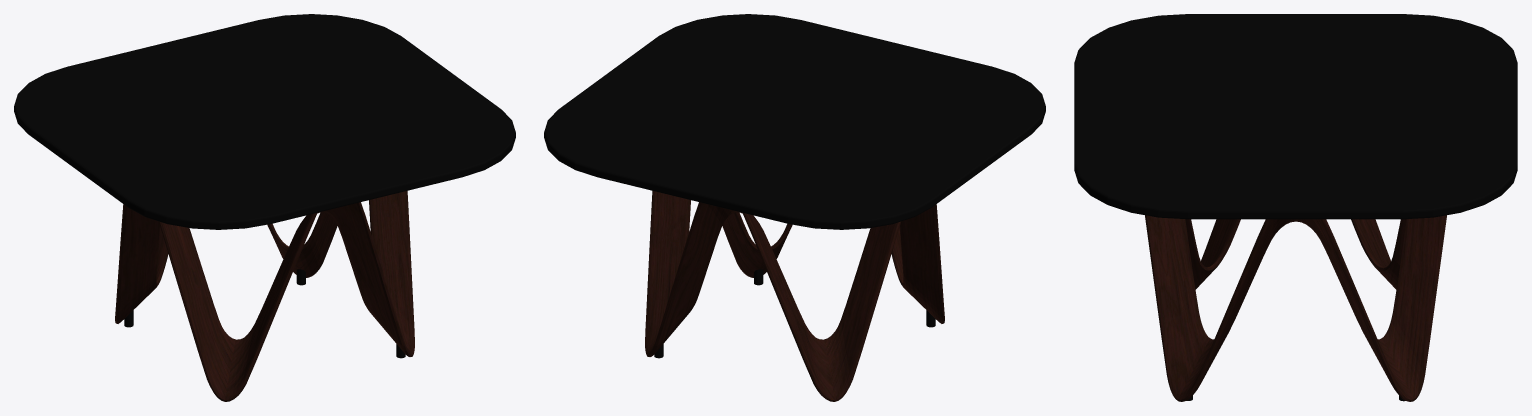
3 renders of one model, left to right at view 1: azimuth 30°, elevation 25°; view 2: azimuth 150°, elevation 25°; view 3: azimuth 270°, elevation 25°, orthographic. The views are drawn at different scales.
Parts seen in each view (by area): view 1: 2d3d79db_db8a_46c9_867d_e19747f2f03a, 779c8bb9_8d65_4fff_a1be_22e66c99fc36; view 2: 2d3d79db_db8a_46c9_867d_e19747f2f03a, 779c8bb9_8d65_4fff_a1be_22e66c99fc36; view 3: 2d3d79db_db8a_46c9_867d_e19747f2f03a, 779c8bb9_8d65_4fff_a1be_22e66c99fc36.
Part boxes in pixels (x1=…): 2d3d79db_db8a_46c9_867d_e19747f2f03a: x1=14, y1=14, x2=515, y2=229; 779c8bb9_8d65_4fff_a1be_22e66c99fc36: x1=115, y1=190, x2=414, y2=401; 2d3d79db_db8a_46c9_867d_e19747f2f03a: x1=544, y1=14, x2=1045, y2=229; 779c8bb9_8d65_4fff_a1be_22e66c99fc36: x1=645, y1=190, x2=944, y2=401; 2d3d79db_db8a_46c9_867d_e19747f2f03a: x1=1074, y1=14, x2=1517, y2=219; 779c8bb9_8d65_4fff_a1be_22e66c99fc36: x1=1145, y1=215, x2=1446, y2=401.
Bounding box in the file's own units: 1000 × 570 × 949.
3 materials, 3 textured.
